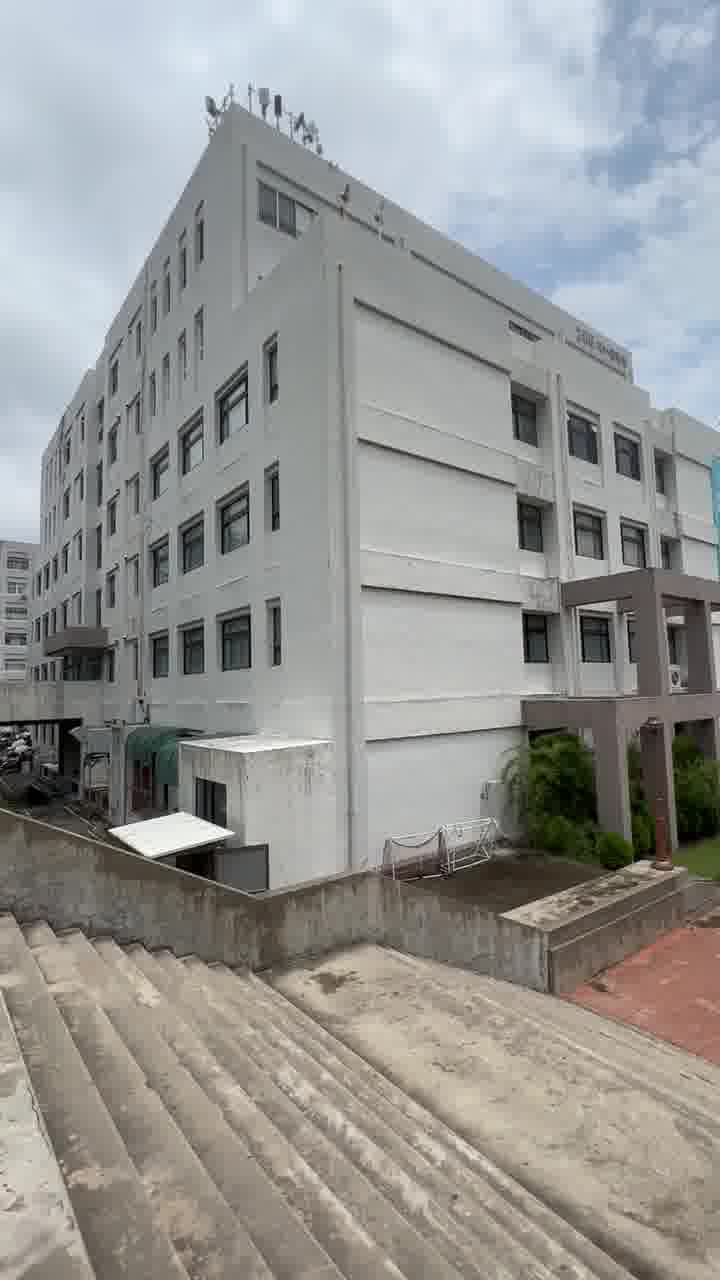medium: (36, 104, 720, 868)
